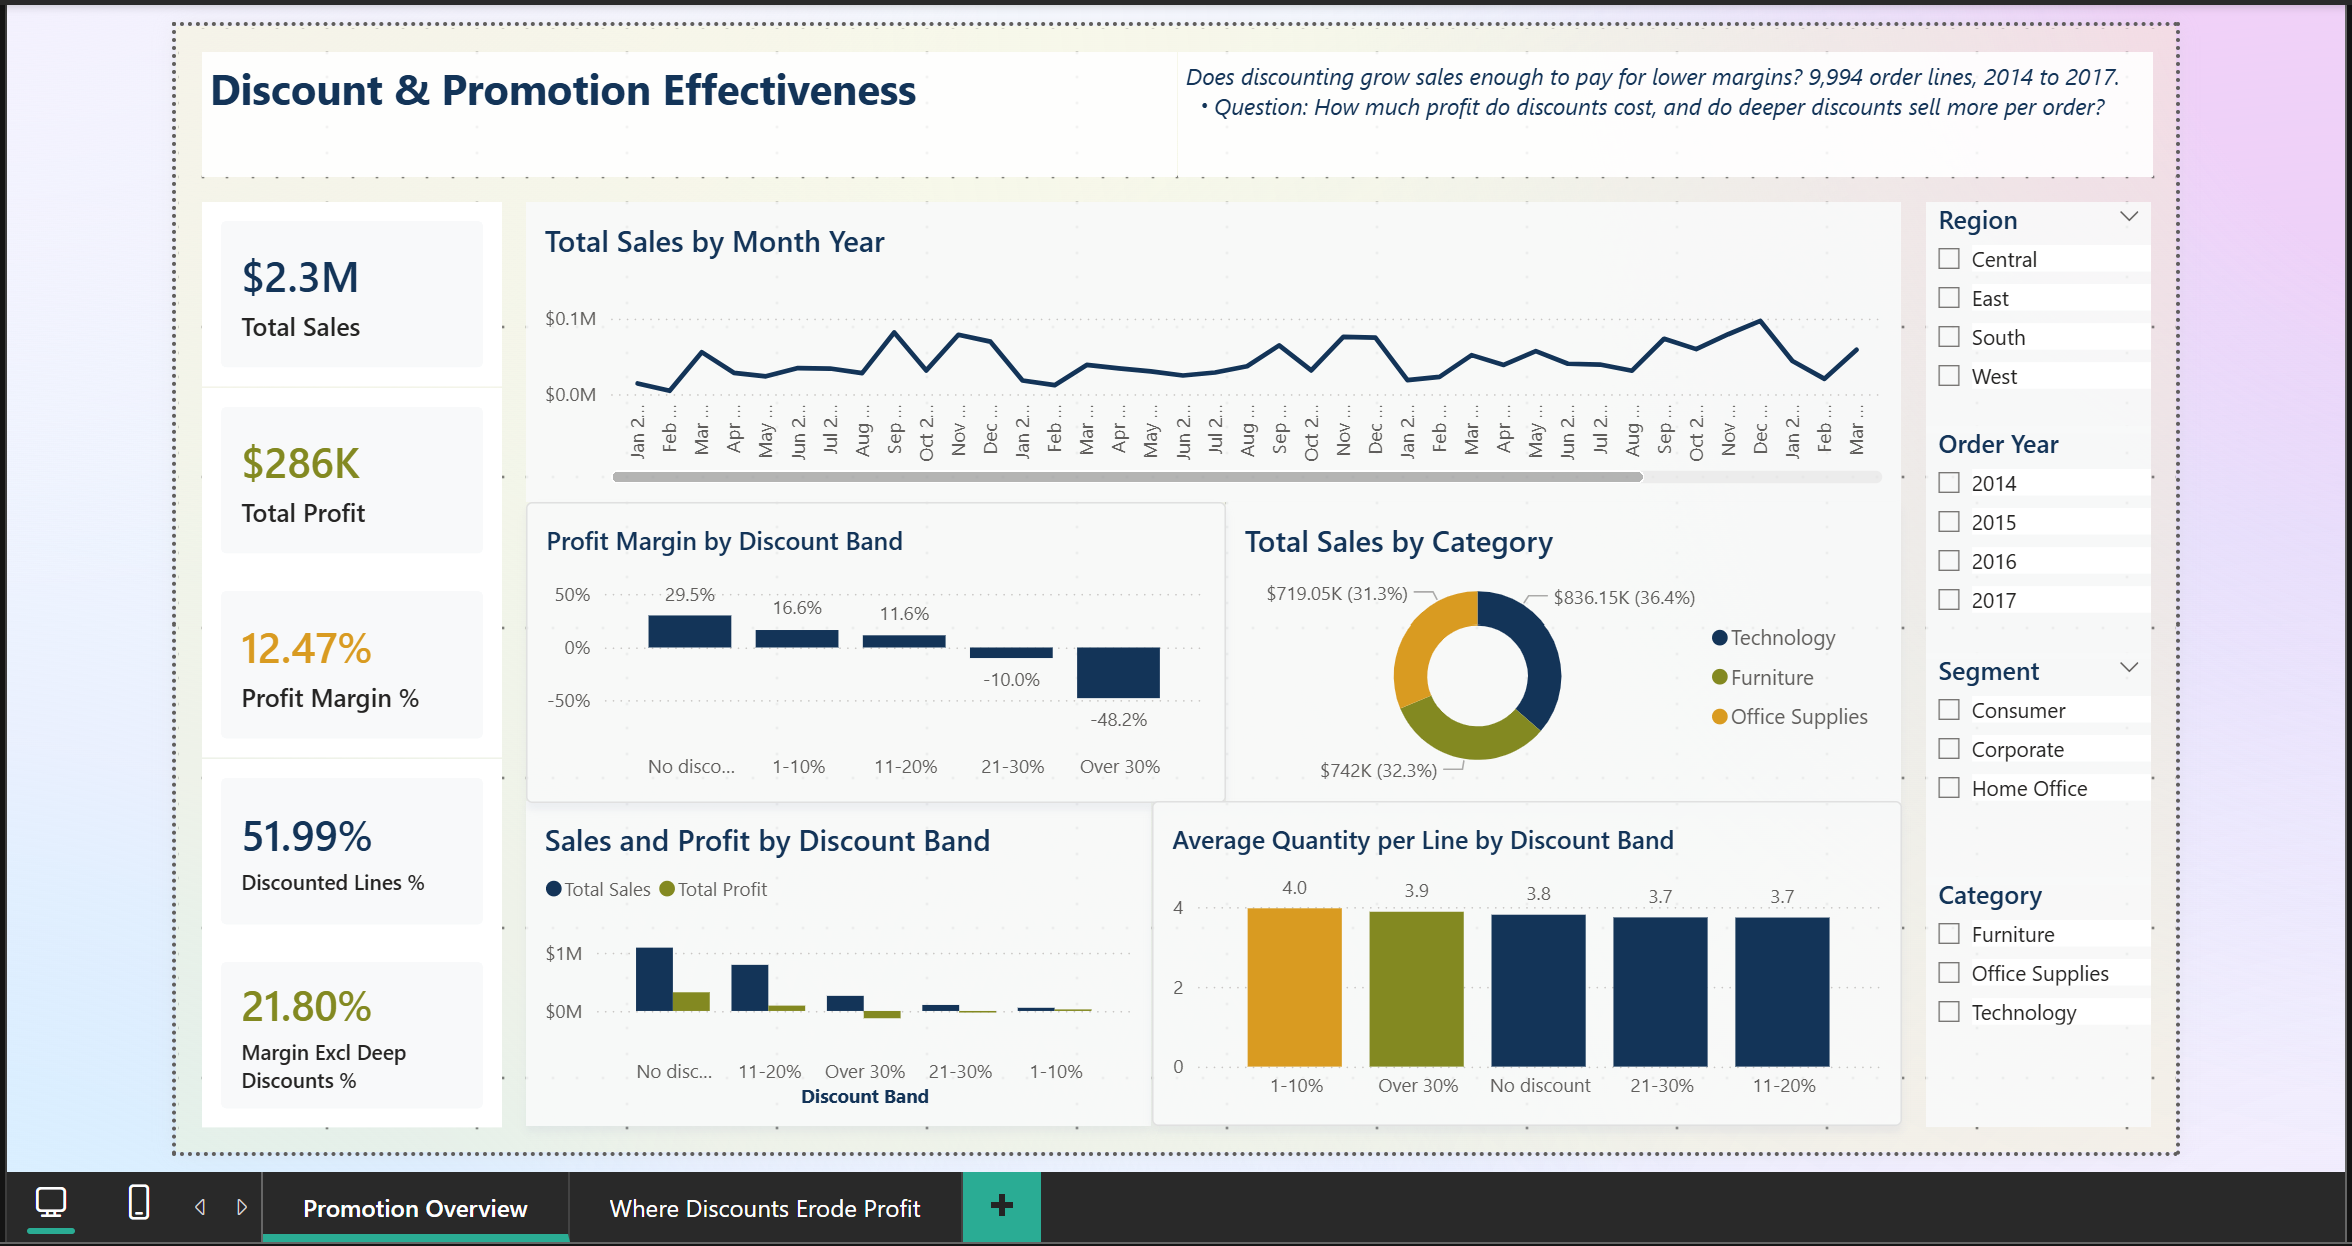

This screenshot's page, from the dashboard's own definition file:
{"tool":"powerbi","page":{"name":"Promotion Overview","canvas":[1280,720],"ordinal":0},"visuals":[{"type":"textbox","box":[16,16,624,80],"z":0,"group":"g1"},{"type":"lineChart","fields":{"Y":["sales_data.Total Sales"],"Category":["sales_data.Month Year"]},"box":[224,112,880,192],"z":0},{"type":"cardVisual","fields":{"Data":["sales_data.Total Profit"]},"box":[16,230.4,192,118.4],"z":0,"group":"g2"},{"type":"textbox","box":[640,16,624,80],"z":1000,"group":"g1"},{"type":"cardVisual","fields":{"Data":["sales_data.Total Sales"]},"box":[16,112,192,118.4],"z":1000,"group":"g2"},{"type":"donutChart","fields":{"Category":["sales_data.Category"],"Y":["sales_data.Total Sales"]},"box":[672,304,432,192],"z":1000},{"type":"clusteredColumnChart","title":"Sales and Profit by Discount Band","fields":{"Category":["sales_data.Discount Band"],"Y":["_Measures.Total Sales","_Measures.Total Profit"]},"box":[224,496,400,208],"z":2000},{"type":"clusteredColumnChart","title":"Profit Margin by Discount Band","fields":{"Y":["_Measures.Profit Margin %"],"Category":["sales_data.Discount Band"]},"box":[224,304,448,192],"z":3000},{"type":"clusteredColumnChart","title":"Average Quantity per Line by Discount Band","fields":{"Category":["sales_data.Discount Band"],"Y":["_Measures.Avg Quantity per Line"]},"box":[624,496,480,208],"z":4000},{"type":"slicer","fields":{"Values":["sales_data.Region"]},"box":[1120,112,144,148],"z":5000},{"type":"slicer","fields":{"Values":["sales_data.Category"]},"box":[1120,544,144,160],"z":6000},{"type":"slicer","fields":{"Values":["sales_data.Segment"]},"box":[1120,400,144,148],"z":7000},{"type":"slicer","fields":{"Values":["sales_data.Order Date.Variation.Date Hierarchy.Year"]},"box":[1120,256,144,148],"z":8000},{"type":"group","id":"g1","title":"Group 1","box":[16,16,1248,80],"z":9000},{"type":"group","id":"g2","title":"Group 2","box":[16,112,192,592],"z":10000},{"type":"cardVisual","fields":{"Data":["_Measures.Profit Margin %"]},"box":[16,348.8,192,118.4],"z":11000,"group":"g2"},{"type":"cardVisual","fields":{"Data":["_Measures.Discounted Lines %"]},"box":[16,467.2,192,118.4],"z":12000,"group":"g2"},{"type":"cardVisual","fields":{"Data":["_Measures.Margin Excl Deep Discounts %"]},"box":[16,585.6,192,118.4],"z":13000,"group":"g2"}]}

Visuals, with their boxes on the page's 1280x720 design canvas (x1, y1, x2, y2). These are canvas units, not pixel positions in the 2352x1246 screenshot, which may show the page scaled, cropped or inside an application window:
textbox: 16, 16, 640, 96
lineChart - sales_data.Total Sales x sales_data.Month Year: 224, 112, 1104, 304
cardVisual - sales_data.Total Profit: 16, 230, 208, 349
textbox: 640, 16, 1264, 96
cardVisual - sales_data.Total Sales: 16, 112, 208, 230
donutChart - sales_data.Category x sales_data.Total Sales: 672, 304, 1104, 496
"Sales and Profit by Discount Band" clusteredColumnChart: 224, 496, 624, 704
"Profit Margin by Discount Band" clusteredColumnChart: 224, 304, 672, 496
"Average Quantity per Line by Discount Band" clusteredColumnChart: 624, 496, 1104, 704
slicer - sales_data.Region: 1120, 112, 1264, 260
slicer - sales_data.Category: 1120, 544, 1264, 704
slicer - sales_data.Segment: 1120, 400, 1264, 548
slicer - sales_data.Order Date.Variation.Date Hierarchy.Year: 1120, 256, 1264, 404
"Group 1" group: 16, 16, 1264, 96
"Group 2" group: 16, 112, 208, 704
cardVisual - _Measures.Profit Margin %: 16, 349, 208, 467
cardVisual - _Measures.Discounted Lines %: 16, 467, 208, 586
cardVisual - _Measures.Margin Excl Deep Discounts %: 16, 586, 208, 704
